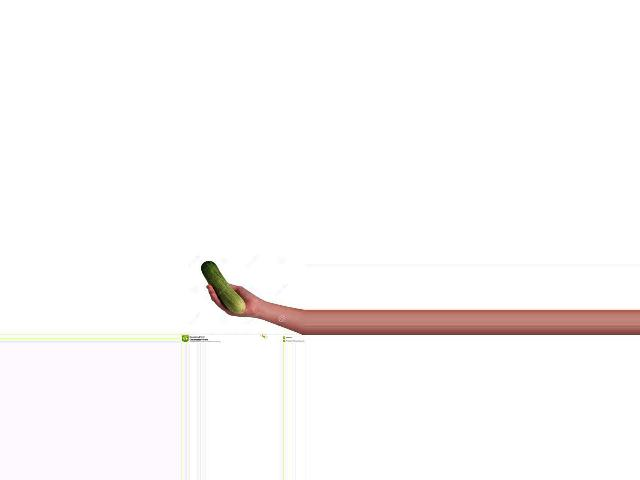cucumber: (202, 261, 245, 314)
